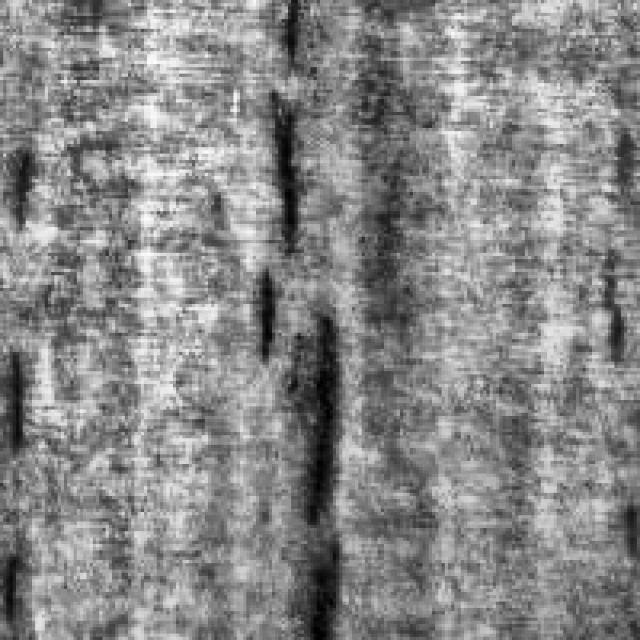Patches: (262, 282, 342, 528), (244, 83, 314, 259), (0, 336, 45, 458), (294, 522, 342, 636), (586, 252, 630, 358), (6, 144, 54, 234), (250, 256, 282, 368)
